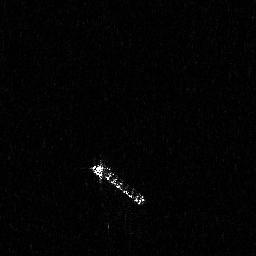ship: (85, 153, 147, 208)
